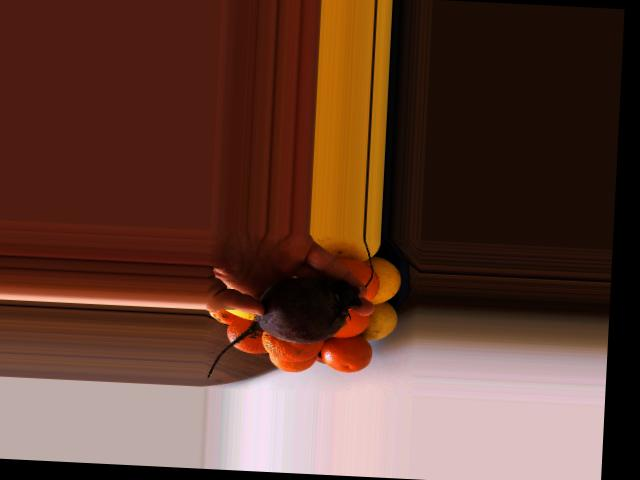beet: (207, 272, 360, 384)
